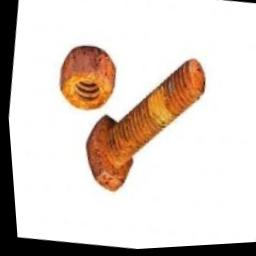Corroded-Bolt: (83, 60, 205, 192)
Corroded-Nut: (57, 47, 115, 110)
